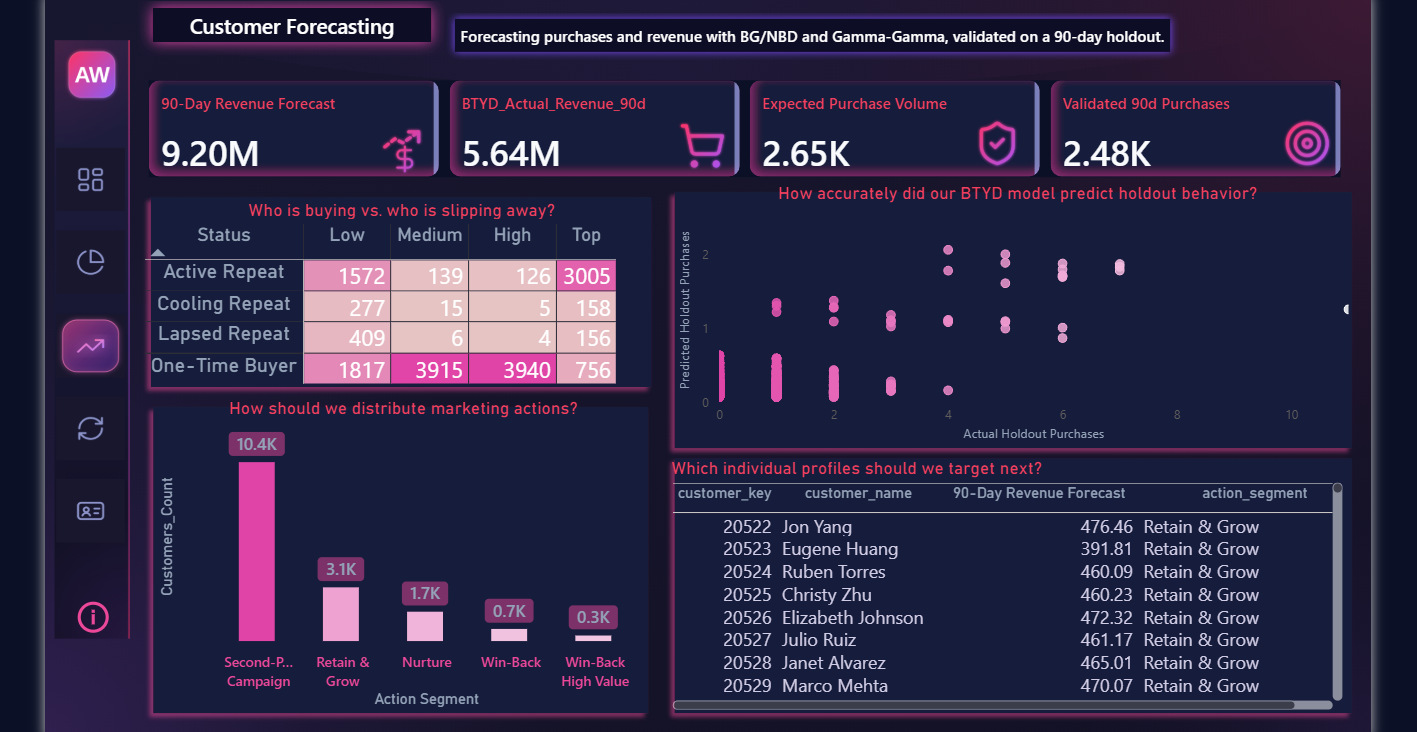

The page's visual inventory and layout, read from the dashboard file:
{"tool":"powerbi","page":{"name":"Customer Forecasting","canvas":[1280,720],"ordinal":2},"visuals":[{"type":"shape","box":[90.5,0,295.9,59.9],"z":0},{"type":"shape","box":[598.4,182.2,672,265.4],"z":0,"group":"g2"},{"type":"shape","box":[92.6,187,501.5,201.5],"z":0,"group":"g4"},{"type":"shape","box":[95.3,389.7,495.8,313.7],"z":0,"group":"g1"},{"type":"shape","box":[598.4,439.1,672,264.2],"z":0,"group":"g3"},{"type":"shape","box":[387.3,15.7,707,48.3],"z":1000},{"type":"scatterChart","title":" \tHow accurately did our BTYD model predict holdout behavior?","fields":{"X":["Sum(gold fact_customer_btyd_eval.actual_holdout_purchases)"],"Y":["Sum(gold fact_customer_btyd_eval.predicted_holdout_purchases)"],"Category":["gold fact_customer_btyd_eval.customer_key"]},"box":[608.1,182.2,662.2,255],"z":1000,"group":"g2"},{"type":"pivotTable","title":"Who is buying vs. who is slipping away?","fields":{"Rows":["gold fact_customer_btyd_predictions.alive_status"],"Columns":["gold fact_customer_btyd_predictions.value_tier"],"Values":["_Measures.Customers"]},"box":[91.7,198.1,505.9,190.7],"z":1000,"group":"g4"},{"type":"columnChart","title":"How should we distribute marketing actions?","fields":{"Category":["gold fact_customer_btyd_predictions.action_segment"],"Y":["_Measures.Customers"]},"box":[105.5,389.7,482.8,303.8],"z":1000,"group":"g1"},{"type":"tableEx","title":"Which individual profiles should we target next?","fields":{"Values":["gold dim_customer.customer_key","gold dim_customer.customer_name","Sum(gold fact_customer_btyd_predictions.predicted_revenue_90d)","gold fact_customer_btyd_predictions.action_segment"]},"box":[599.3,448.1,657.5,248],"z":1000,"group":"g3"},{"type":"cardVisual","fields":{"Data":["_Measures.BTYD_Projected_Revenue_90d","_Measures.Predicated Purchases","_Measures.Actual Holdout Purchases","_Measures.BTYD_Model_MAE"]},"box":[95,78.3,1161.6,103.5],"z":2000},{"type":"group","id":"g1","title":"Group 1","box":[95.3,389.7,495.8,313.7],"z":3000},{"type":"group","id":"g2","title":"Group 2","box":[598.4,182.2,672,265.4],"z":4000},{"type":"group","id":"g3","title":"Group 3","box":[598.4,439.1,672,264.2],"z":5000},{"type":"group","id":"g4","title":"Group 4","box":[91.7,187,506.7,201.5],"z":6000},{"type":"group","id":"g5","title":"Group 5","box":[90.3,0,1190,719.8],"z":7000},{"type":"image","box":[1.2,40,88.8,587.5],"z":8000},{"type":"actionButton","box":[26.2,581,40,40],"z":9000},{"type":"image","box":[12.5,32.5,66.2,90],"z":10000},{"type":"group","id":"g6","title":"Group 5","box":[11.2,148.8,66.2,381.2],"z":11000},{"type":"image","box":[307.6,115.8,79.6,71.2],"z":12000},{"type":"actionButton","box":[11.2,148.8,66.2,61.2],"z":13000,"group":"g6"},{"type":"image","box":[594.8,111,78.4,71.2],"z":14000},{"type":"actionButton","box":[11.2,228.8,66.2,61.2],"z":14000,"group":"g6"},{"type":"image","box":[1178.7,108.6,78.4,71.2],"z":15000},{"type":"actionButton","box":[11.2,388.8,66.2,61.2],"z":15000,"group":"g6"},{"type":"image","box":[879.5,108.6,78.4,71.2],"z":16000},{"type":"actionButton","box":[11.2,308.8,66.2,61.2],"z":16000,"group":"g6"},{"type":"actionButton","box":[11.2,468.8,66.2,61.2],"z":17000,"group":"g6"}]}

Visuals, with their boxes on the page's 1280x720 design canvas (x1, y1, x2, y2). These are canvas units, not pixel positions in the 1417x732 screenshot, which may show the page scaled, cropped or inside an application window:
shape: [90, 0, 386, 60]
shape: [598, 182, 1270, 448]
shape: [93, 187, 594, 388]
shape: [95, 390, 591, 703]
shape: [598, 439, 1270, 703]
shape: [387, 16, 1094, 64]
" 	How accurately did our BTYD model predict holdout behavior?" scatterChart: [608, 182, 1270, 437]
"Who is buying vs. who is slipping away?" pivotTable: [92, 198, 598, 389]
"How should we distribute marketing actions?" columnChart: [106, 390, 588, 694]
"Which individual profiles should we target next?" tableEx: [599, 448, 1257, 696]
cardVisual - _Measures.BTYD_Projected_Revenue_90d x _Measures.Predicated Purchases: [95, 78, 1257, 182]
"Group 1" group: [95, 390, 591, 703]
"Group 2" group: [598, 182, 1270, 448]
"Group 3" group: [598, 439, 1270, 703]
"Group 4" group: [92, 187, 598, 388]
"Group 5" group: [90, 0, 1280, 720]
image: [1, 40, 90, 628]
actionButton: [26, 581, 66, 621]
image: [12, 32, 79, 122]
"Group 5" group: [11, 149, 77, 530]
image: [308, 116, 387, 187]
actionButton: [11, 149, 77, 210]
image: [595, 111, 673, 182]
actionButton: [11, 229, 77, 290]
image: [1179, 109, 1257, 180]
actionButton: [11, 389, 77, 450]
image: [880, 109, 958, 180]
actionButton: [11, 309, 77, 370]
actionButton: [11, 469, 77, 530]
